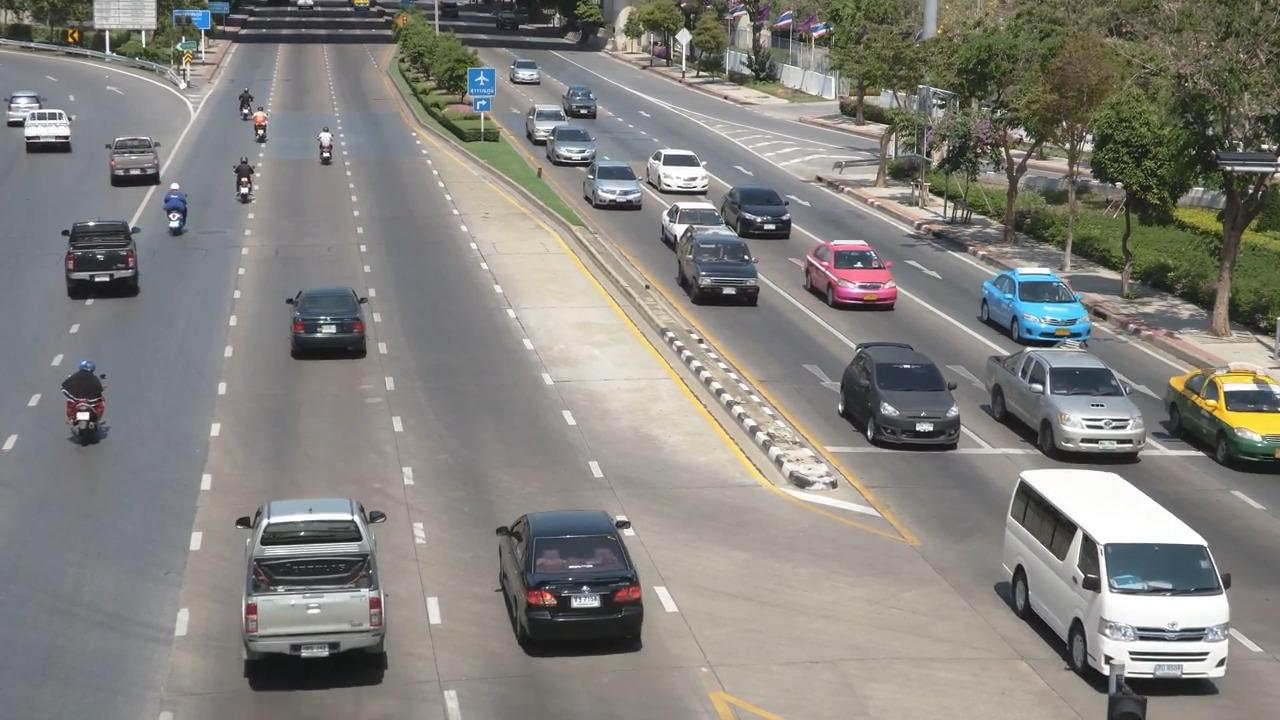CAR: (988, 462, 1238, 696), (207, 483, 418, 693), (482, 489, 667, 674), (968, 332, 1150, 454), (827, 336, 964, 462), (1165, 359, 1280, 472), (277, 275, 384, 388), (968, 262, 1098, 349), (53, 214, 151, 307), (805, 230, 901, 324), (677, 234, 765, 316), (716, 178, 803, 246), (96, 124, 174, 190), (654, 187, 728, 246), (643, 143, 717, 201), (579, 149, 646, 212), (24, 102, 86, 166), (509, 93, 572, 147), (557, 81, 610, 125), (541, 123, 591, 168), (509, 62, 544, 89)
MOTOR: (51, 349, 120, 454), (216, 153, 265, 222), (148, 177, 196, 238), (308, 123, 344, 184), (245, 104, 282, 154), (228, 82, 262, 128)
